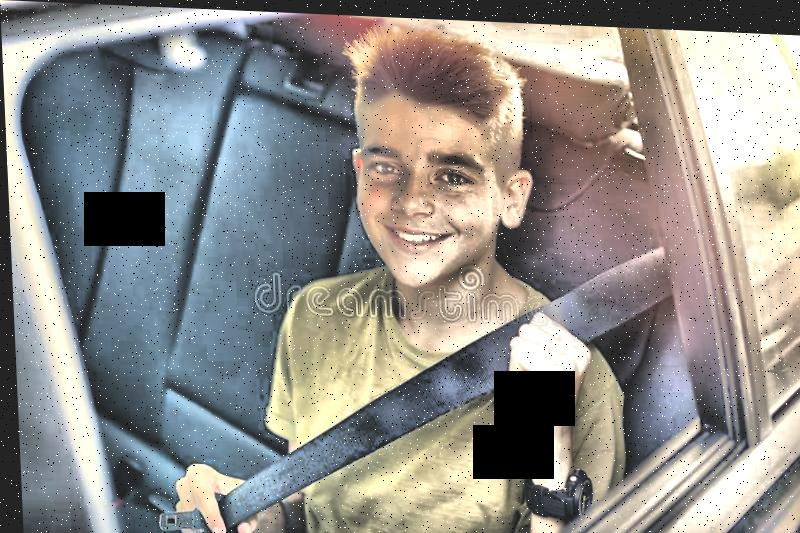seatbelt: (142, 215, 675, 533)
